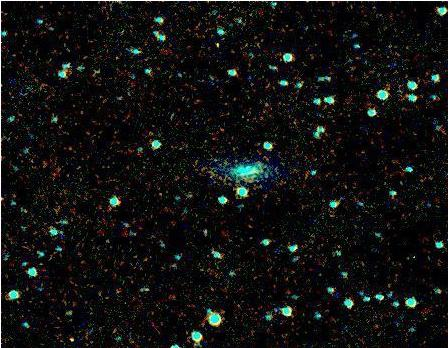star: (58, 326, 88, 348)
